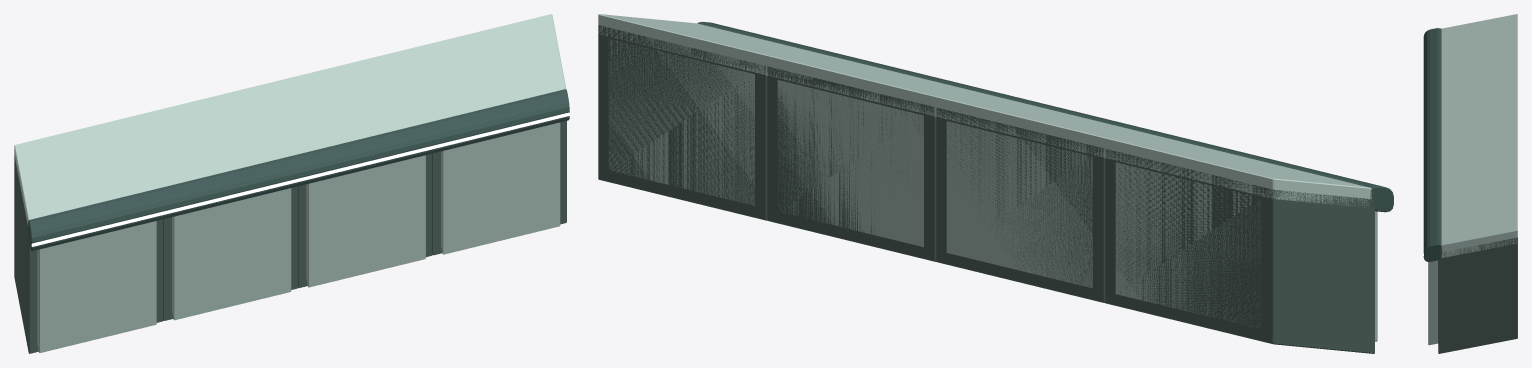
The model's file is Terrain_TopRun4.gltf.
3 views of the same model, side by side, from view 1: azimuth 30°, elevation 25°; view 2: azimuth 150°, elevation 25°; view 3: azimuth 270°, elevation 25° (orthographic). The views are drawn at different scales.
Parts seen in each view (by area): view 1: Terrain_TopRun4_baked; view 2: Terrain_TopRun4_baked; view 3: Terrain_TopRun4_baked.
Part boxes in pixels (left/top/right/bottom): Terrain_TopRun4_baked: left=14, top=14, right=569, bottom=353; Terrain_TopRun4_baked: left=598, top=14, right=1394, bottom=353; Terrain_TopRun4_baked: left=1423, top=14, right=1517, bottom=353.
Size of the model in its own units: 4.29 by 1.18 by 0.74.
